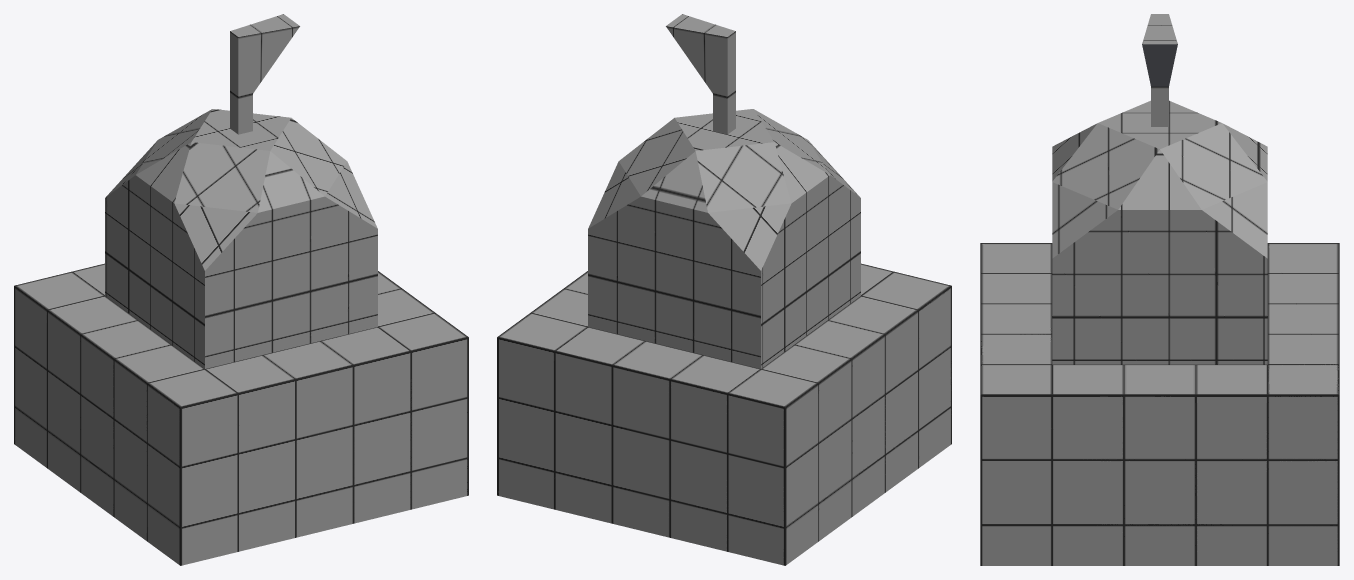
The model's file is Roads.fbx.
3 renders of one model, left to right at view 1: azimuth 30°, elevation 25°; view 2: azimuth 150°, elevation 25°; view 3: azimuth 270°, elevation 25°, orthographic. The views are drawn at different scales.
Parts seen in each view (by area): view 1: House2, BridgeREdge2, BridgeRMid, BridgeREdge, BridgeMid, BridgeRMid3, Pole, BridgeRMid4; view 2: House2, BridgeREdge2, BridgeMid, BridgeRMid, BridgeRMid3, BridgeREdge, Pole, BridgeEdge, BridgeRMid4; view 3: House2, BridgeEdge, BridgeREdge2, BridgeREdge, BridgeRMid3, BridgeMid, BridgeRMid, Pole, BridgeRMid4.
Part boxes in pixels (x1,y1,x2,y2): House2: (105,109,377,368); BridgeREdge2: (14,286,334,565); BridgeRMid: (86,327,468,565); BridgeREdge: (87,337,468,565); BridgeMid: (47,271,435,502); BridgeRMid3: (14,263,468,506); Pole: (230,14,299,134); BridgeRMid4: (83,353,127,507); House2: (588,109,860,368); BridgeREdge2: (497,337,868,565); BridgeMid: (530,263,951,536); BridgeRMid: (497,286,951,564); BridgeRMid3: (523,271,951,541); BridgeREdge: (629,429,951,565); Pole: (666,14,735,134); BridgeEdge: (628,437,951,557); BridgeRMid4: (630,382,938,544); House2: (1052,100,1267,364); BridgeEdge: (1094,395,1339,565); BridgeREdge2: (980,395,1163,565); BridgeREdge: (1110,395,1339,565); BridgeRMid3: (980,243,1339,565); BridgeMid: (980,273,1267,394); BridgeRMid: (980,328,1339,489); Pole: (1142,14,1177,126); BridgeRMid4: (1119,433,1308,565).
Bounding box in the file's own units: 200 × 290 × 200.
